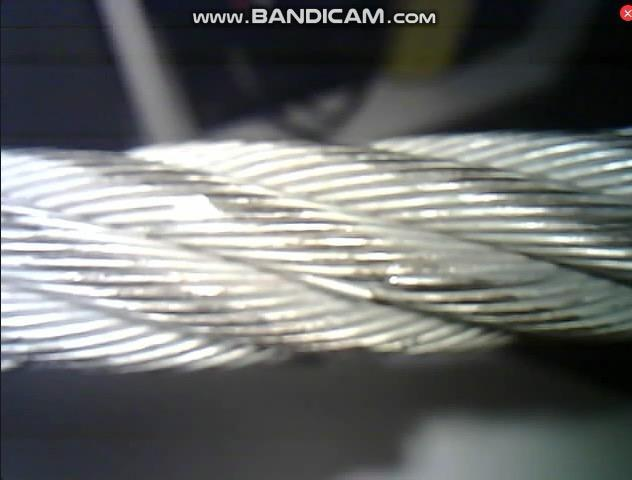break: (349, 266, 415, 308)
